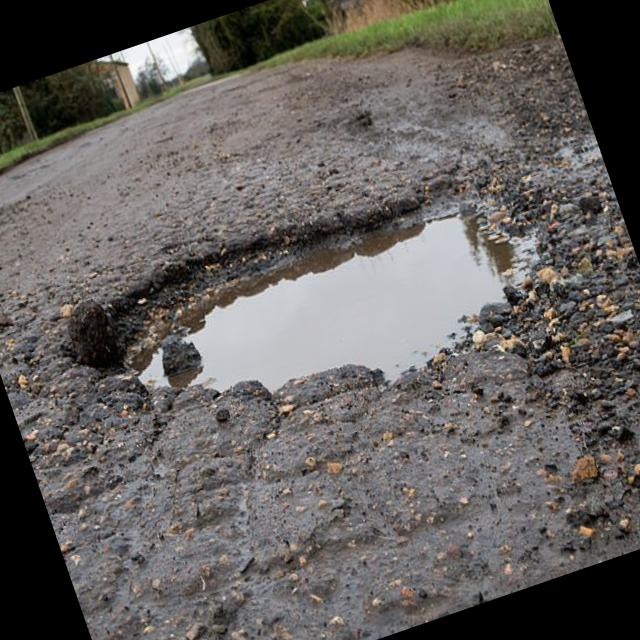Potholes: (41, 126, 598, 502)
